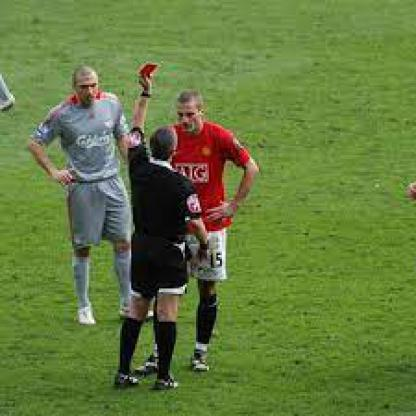foul: (119, 47, 164, 125)
